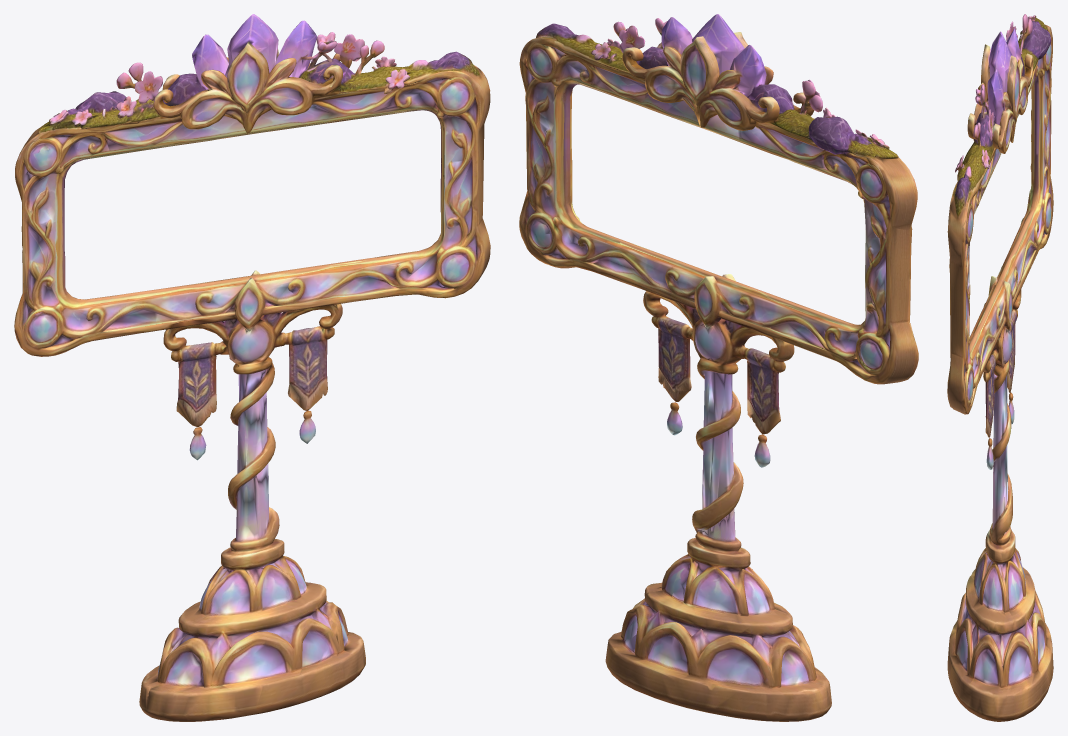
File: board-frame.high.glb
3 views of the same model, side by side, from view 1: azimuth 30°, elevation 25°; view 2: azimuth 150°, elevation 25°; view 3: azimuth 270°, elevation 25° (orthographic). The views are drawn at different scales.
Parts seen in each view (by area): view 1: tripo_node_c4014246-c129-428b-a628-62335dfa19a4; view 2: tripo_node_c4014246-c129-428b-a628-62335dfa19a4; view 3: tripo_node_c4014246-c129-428b-a628-62335dfa19a4.
Boxes of the visible parts, x1,y1,x2,y2 form: tripo_node_c4014246-c129-428b-a628-62335dfa19a4: (14,14,490,721); tripo_node_c4014246-c129-428b-a628-62335dfa19a4: (519,14,918,721); tripo_node_c4014246-c129-428b-a628-62335dfa19a4: (947,14,1053,721).
Size of the model in its own units: 1.35 by 2 by 0.2996.
Materials: 1 (1 with a texture image).
